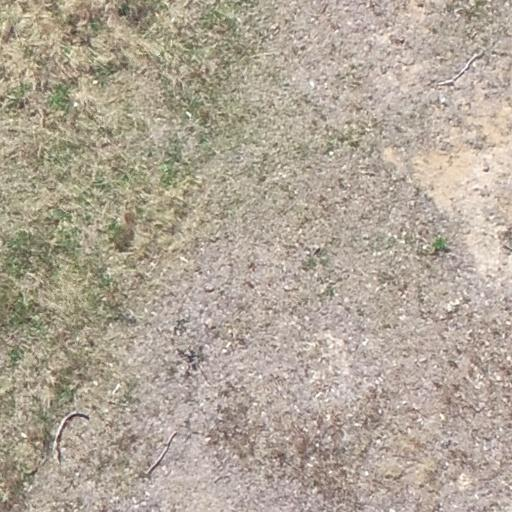stone: (204, 316, 216, 328), (203, 283, 215, 294), (312, 245, 321, 255)
